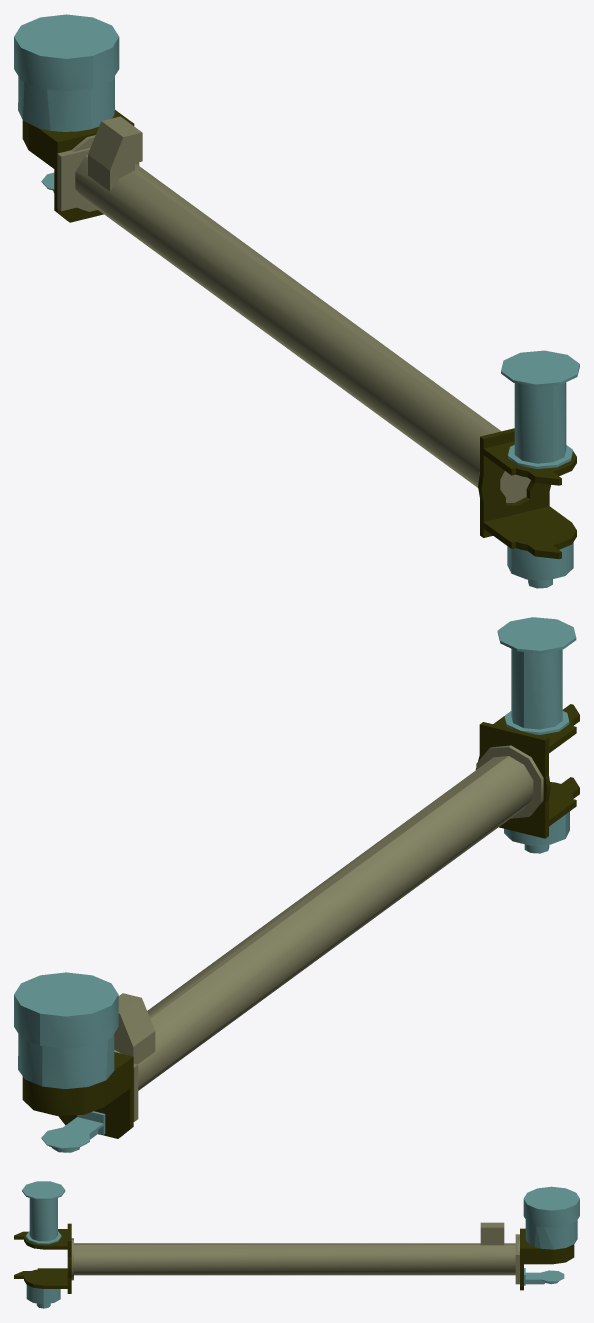
Rendered from LRO_HGA_Boom.obj.
The picture shows the model from 3 angles, top to bottom: view 1: azimuth 30°, elevation 25°; view 2: azimuth 150°, elevation 25°; view 3: azimuth 270°, elevation 25°; orthographic projection. The views are drawn at different scales.
Parts seen in each view (by area): view 1: HGA_Boom_MTL0, HGA_Boom_MTL9, HGA_Boom_MTL1; view 2: HGA_Boom_MTL0, HGA_Boom_MTL9, HGA_Boom_MTL1; view 3: HGA_Boom_MTL0, HGA_Boom_MTL9, HGA_Boom_MTL1.
Boxes of the visible parts, x1=… form: HGA_Boom_MTL0: x1=57, y1=116, x2=530, y2=502; HGA_Boom_MTL9: x1=14, y1=14, x2=579, y2=588; HGA_Boom_MTL1: x1=22, y1=110, x2=576, y2=558; HGA_Boom_MTL0: x1=114, y1=745, x2=543, y2=1121; HGA_Boom_MTL9: x1=14, y1=617, x2=576, y2=1152; HGA_Boom_MTL1: x1=22, y1=704, x2=579, y2=1138; HGA_Boom_MTL0: x1=71, y1=1222, x2=519, y2=1284; HGA_Boom_MTL9: x1=22, y1=1181, x2=579, y2=1308; HGA_Boom_MTL1: x1=14, y1=1223, x2=574, y2=1293.
Bounding box in the file's own units: 0.1986 × 0.449 × 1.99.
